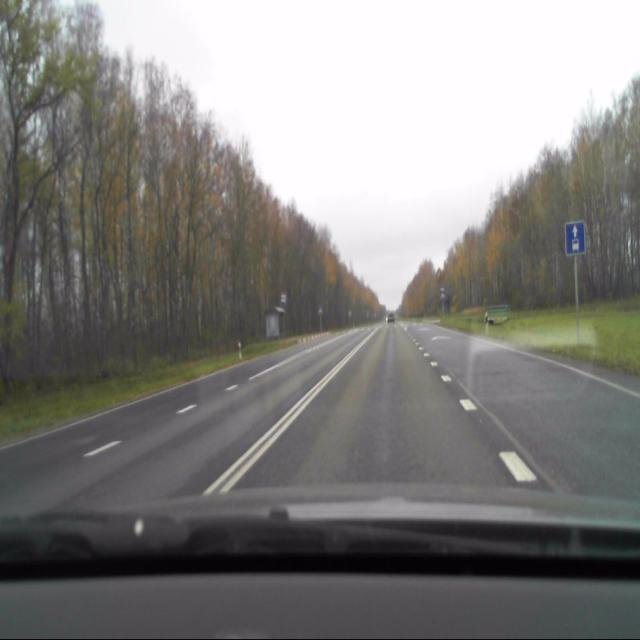road sign: (564, 220, 586, 256)
